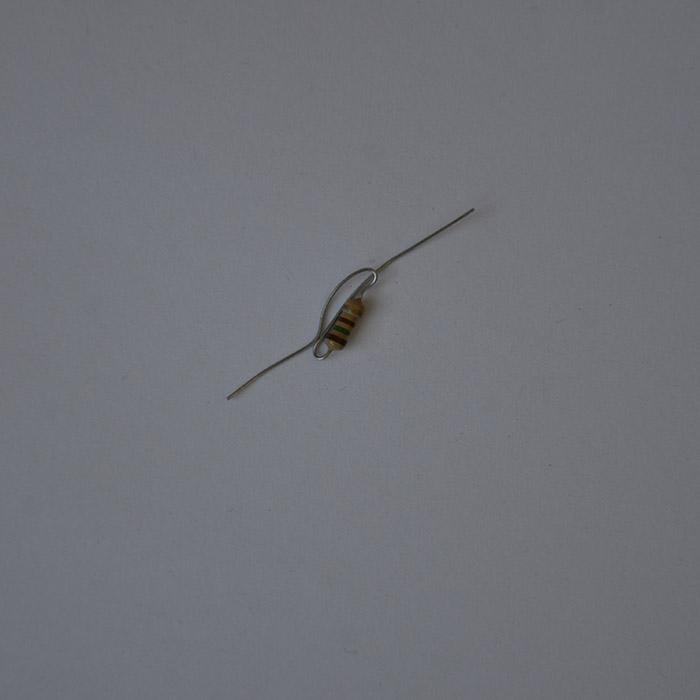resistor: (320, 292, 367, 353)
